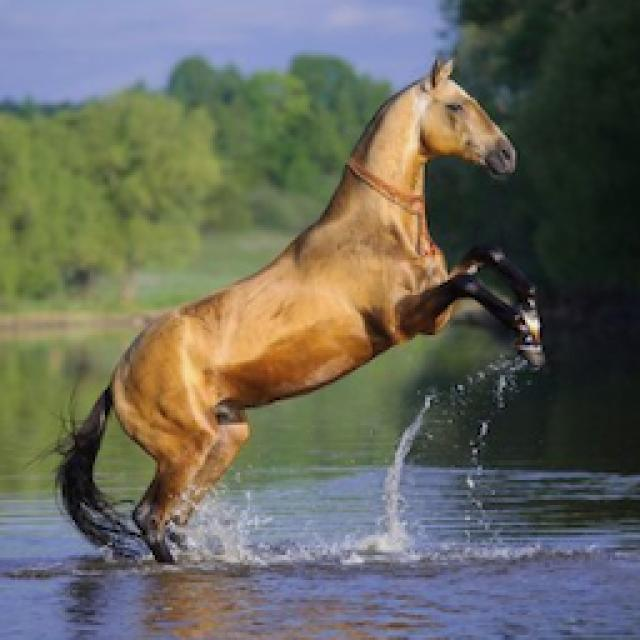Horse: (40, 50, 555, 570)
